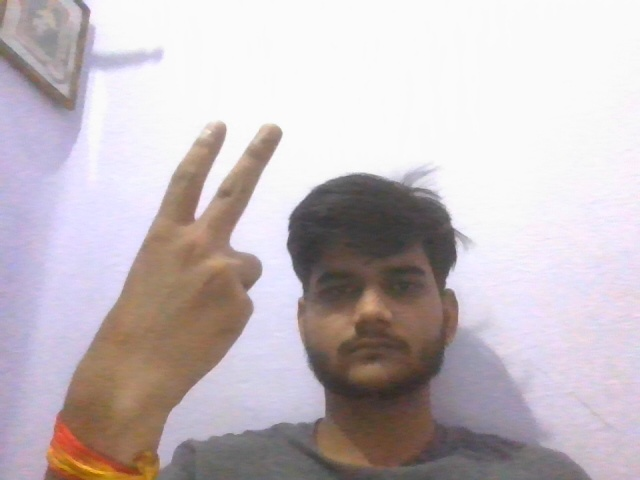yes: (107, 109, 283, 400)
